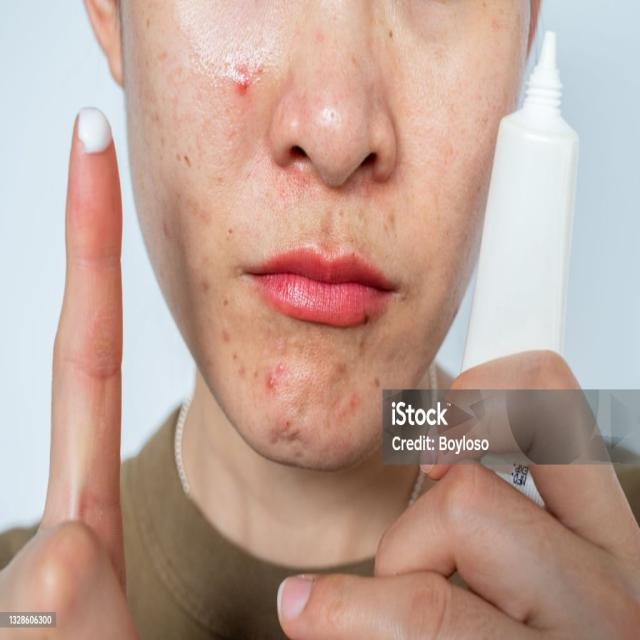papule: (231, 59, 256, 100), (220, 324, 242, 347), (346, 391, 362, 411), (279, 416, 298, 431), (236, 361, 250, 378)
pustule: (277, 362, 287, 376), (265, 375, 275, 388)
